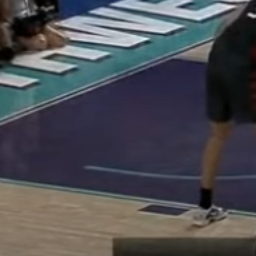block: (138, 202, 190, 218)
